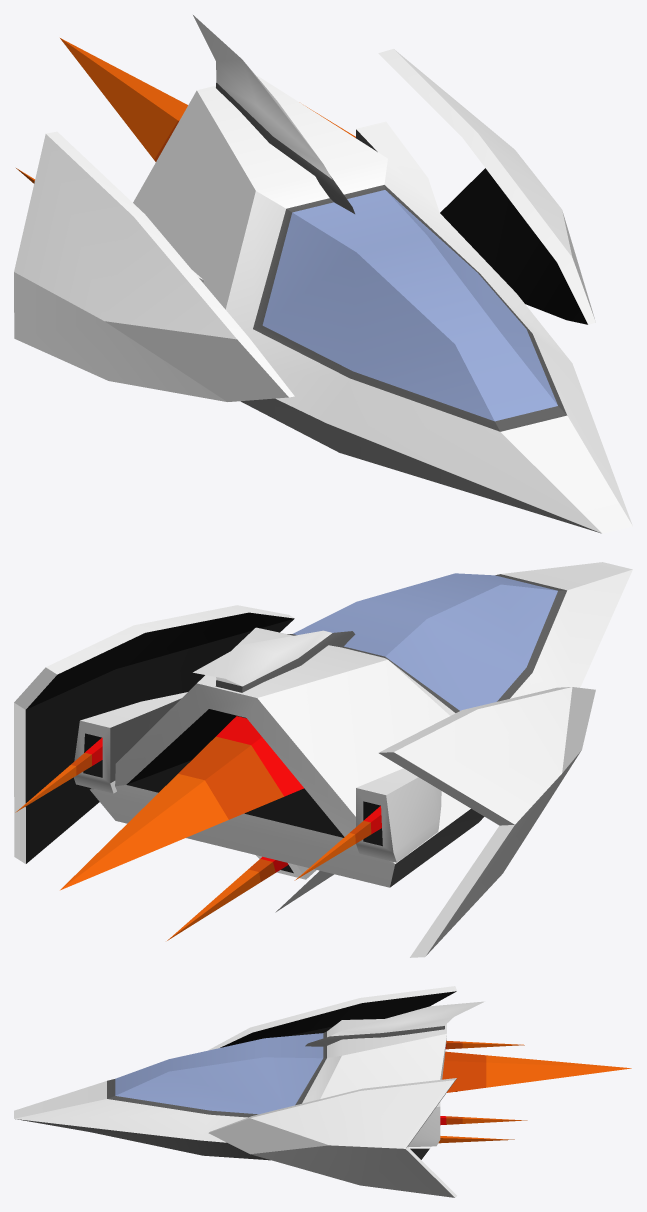
The model's file is spaceship.gltf.
3 views of the same model, one above another, from view 1: azimuth 30°, elevation 25°; view 2: azimuth 150°, elevation 25°; view 3: azimuth 270°, elevation 25° (orthographic). The views are drawn at different scales.
Parts seen in each view (by area): view 1: body, cabin.001, body_down, wings, engine3; view 2: body, wings, cabin.001, engine3, body_down, engine2, engine1; view 3: body, cabin.001, body_down, engine3, wings, engine2.
Part boxes in pixels (x1,y1,x2,y2): body: (14,15,632,533); cabin.001: (262,190,557,421); body_down: (216,82,600,533); wings: (440,168,587,324); engine3: (16,38,354,183); body: (14,562,632,957); wings: (25,612,382,873); cabin.001: (293,573,557,710); engine3: (15,765,355,940); body_down: (110,574,566,912); engine2: (71,736,371,881); engine1: (85,716,381,872); body: (14,986,484,1197); cabin.001: (115,1033,323,1114); body_down: (15,1026,444,1160); engine3: (438,1041,631,1143); wings: (220,991,456,1091); engine2: (442,1040,486,1124).
Size of the model in its own units: 54.51 by 31.73 by 105.
